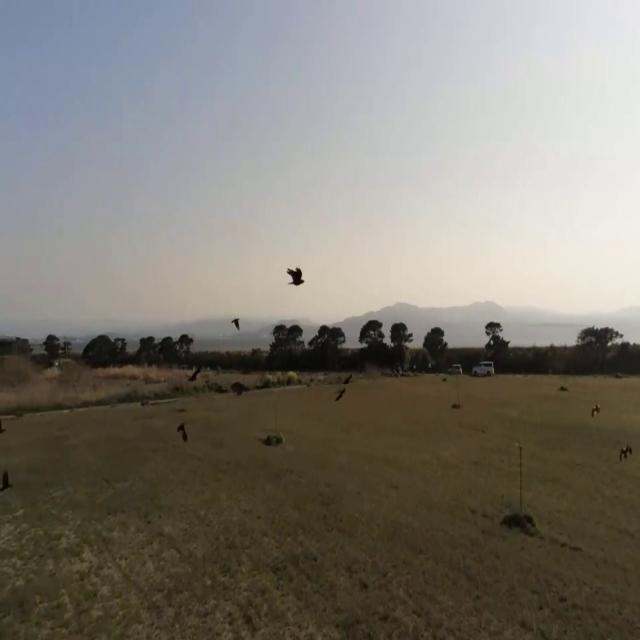bird: (287, 256, 305, 294), (177, 413, 188, 446), (231, 312, 241, 333), (0, 409, 4, 442)
